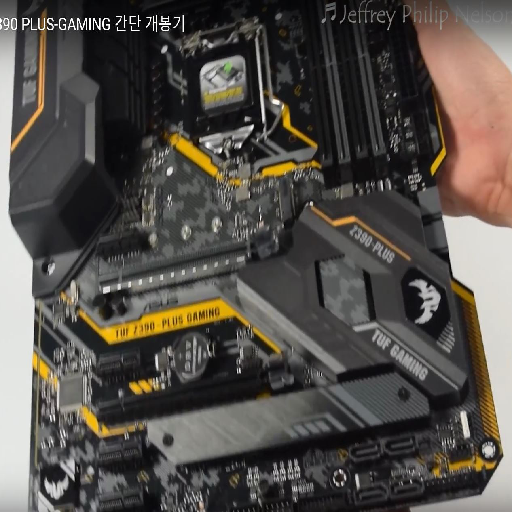CPU: (178, 38, 266, 153)
GPU: (98, 353, 294, 419), (97, 223, 281, 277)
MOTHERBOARD: (13, 3, 505, 512)
RAM: (297, 3, 390, 172)
SSD: (276, 174, 298, 223)
